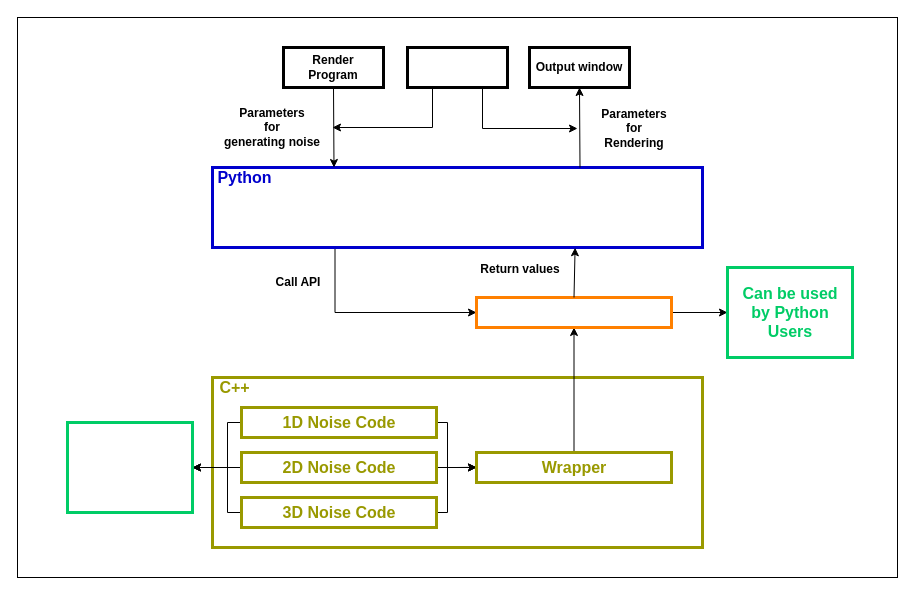
Some shapes in this 915 by 595 pixel diagram are drawn without their labels. Here are the shapes that lost their labels. From the top down, the box of each, then its label:
(406, 46, 508, 88): .conf File
(210, 166, 704, 248): Call API / Render terrain
(474, 296, 672, 328): .so File
(66, 420, 194, 514): Can be used by C++ Users
